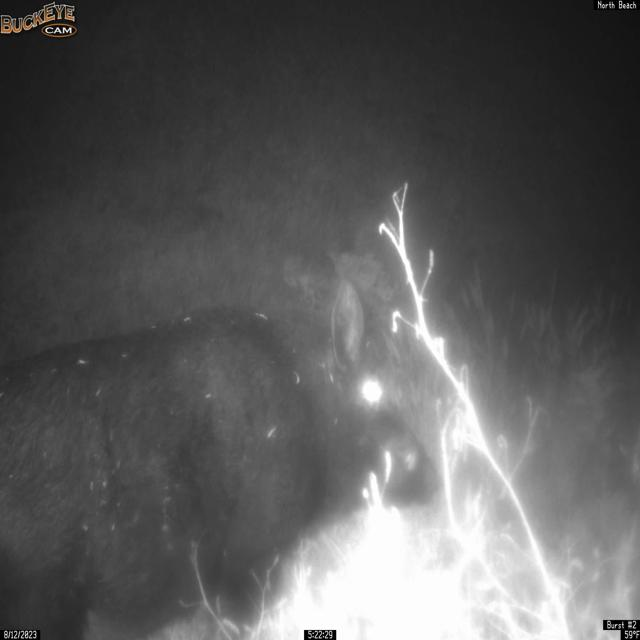pig: (0, 283, 437, 640)
